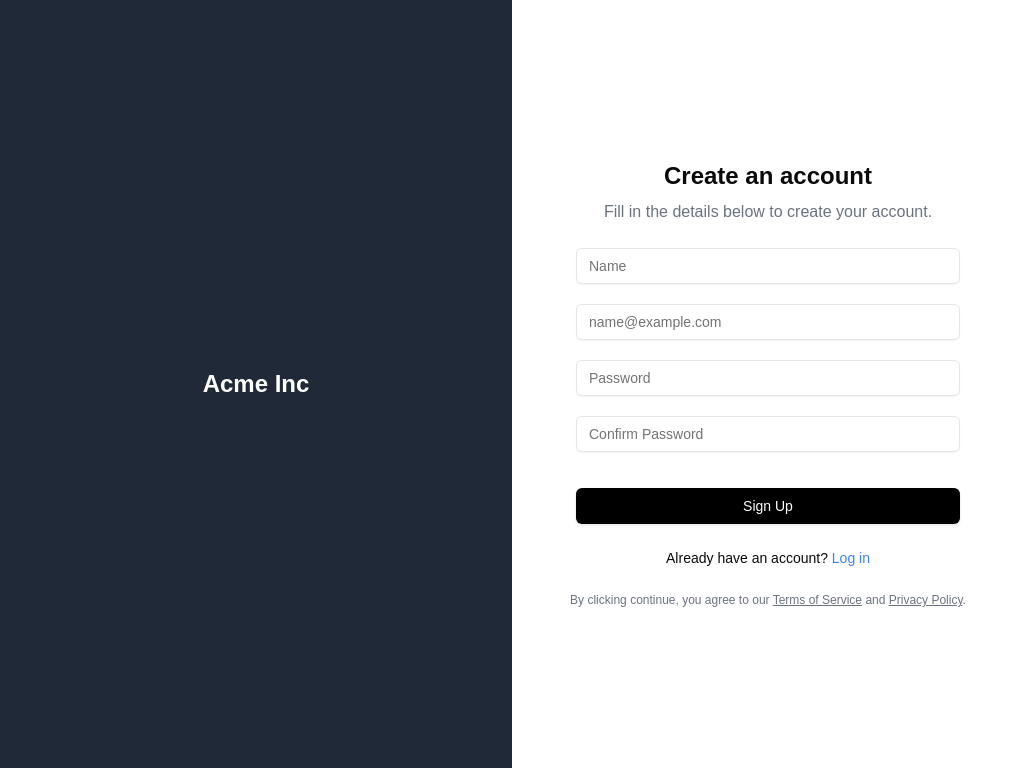
Test case: SignupPage Component › displays error when passwords do not match
In the field with placeholder "Name": x=768, y=266 [576,248,960,284], type "John Doe"
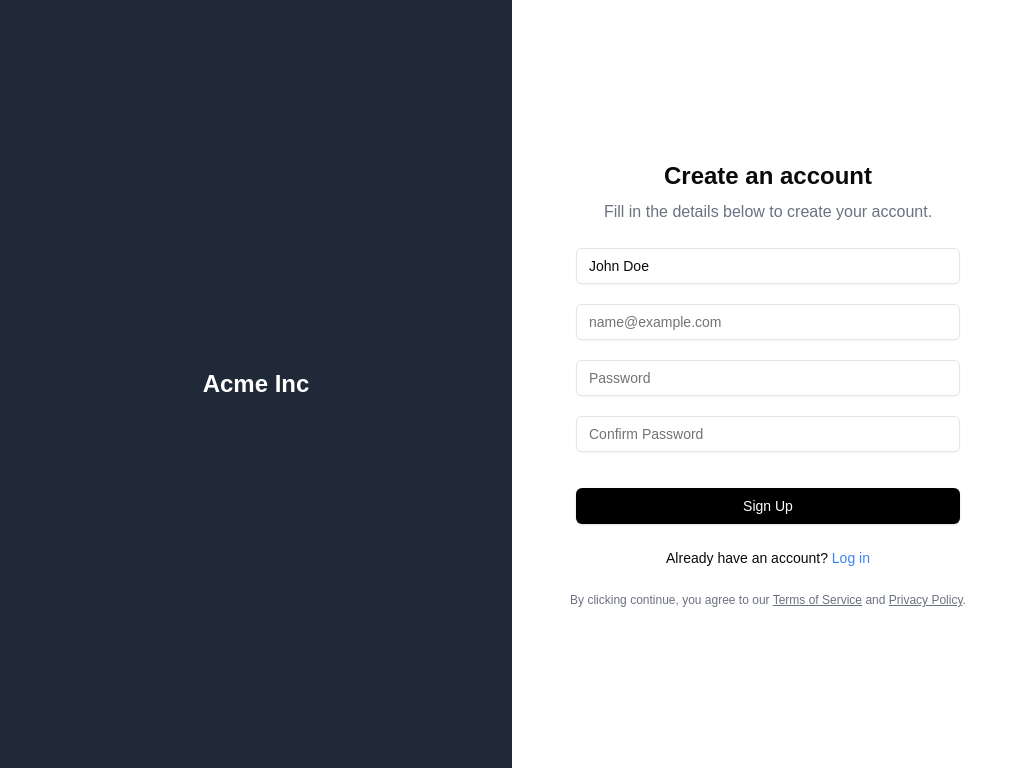
In the field with placeholder "name@example.com": x=768, y=322 [576,304,960,340], type "john@example.com"
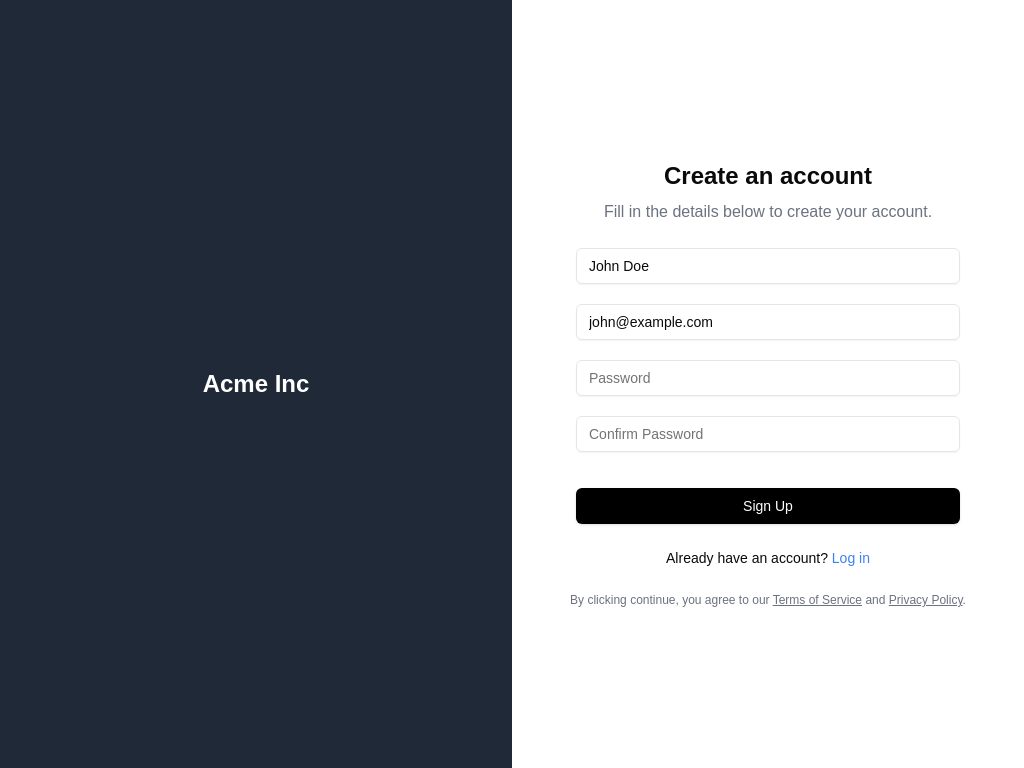
In the password field with placeholder "Password": x=768, y=378 [576,360,960,396], type "Password@123"
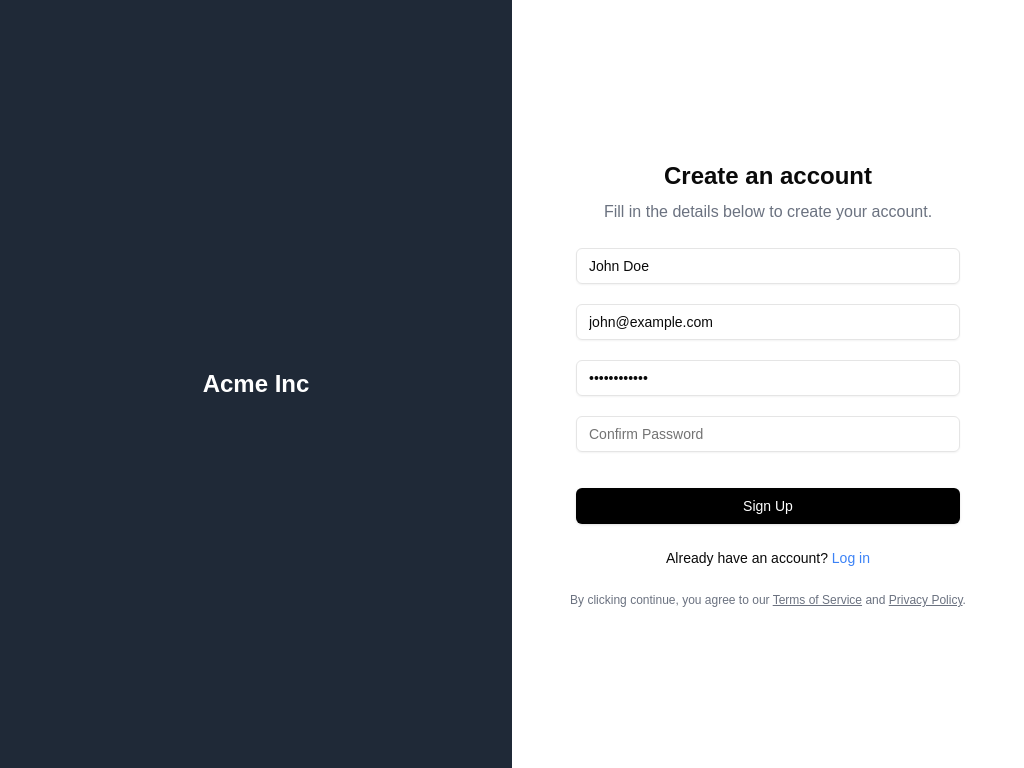
In the password field with placeholder "Confirm Password": x=768, y=434 [576,416,960,452], type "Password123"
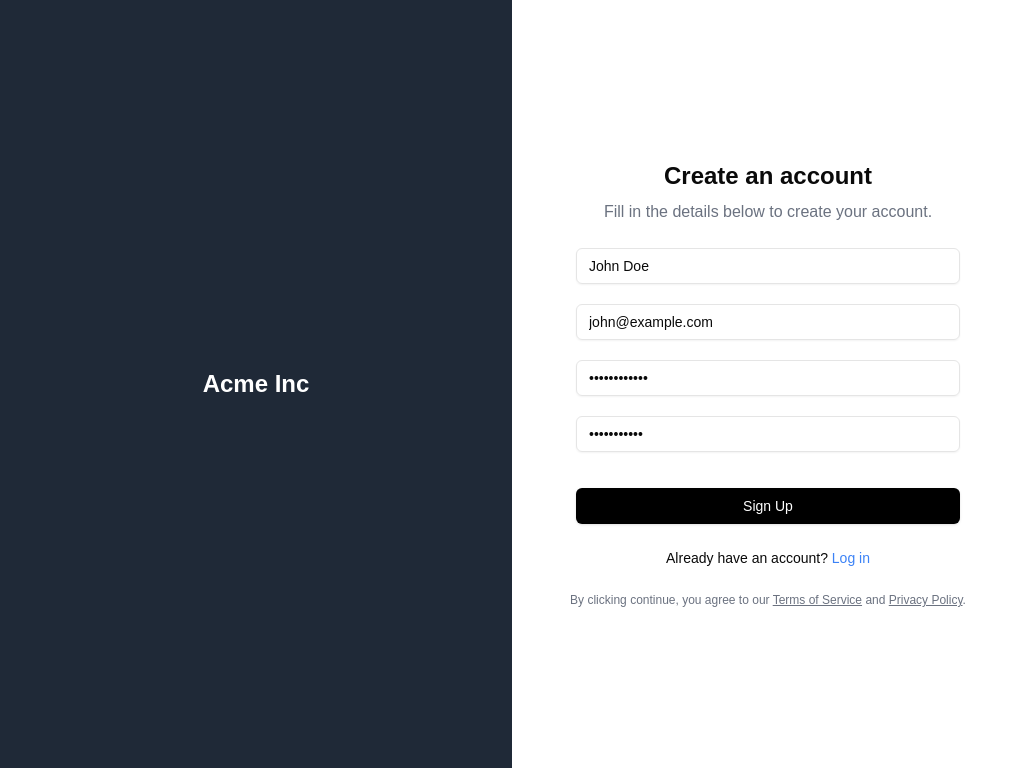
Click the button "Sign Up": x=768, y=506 [576,488,960,524]
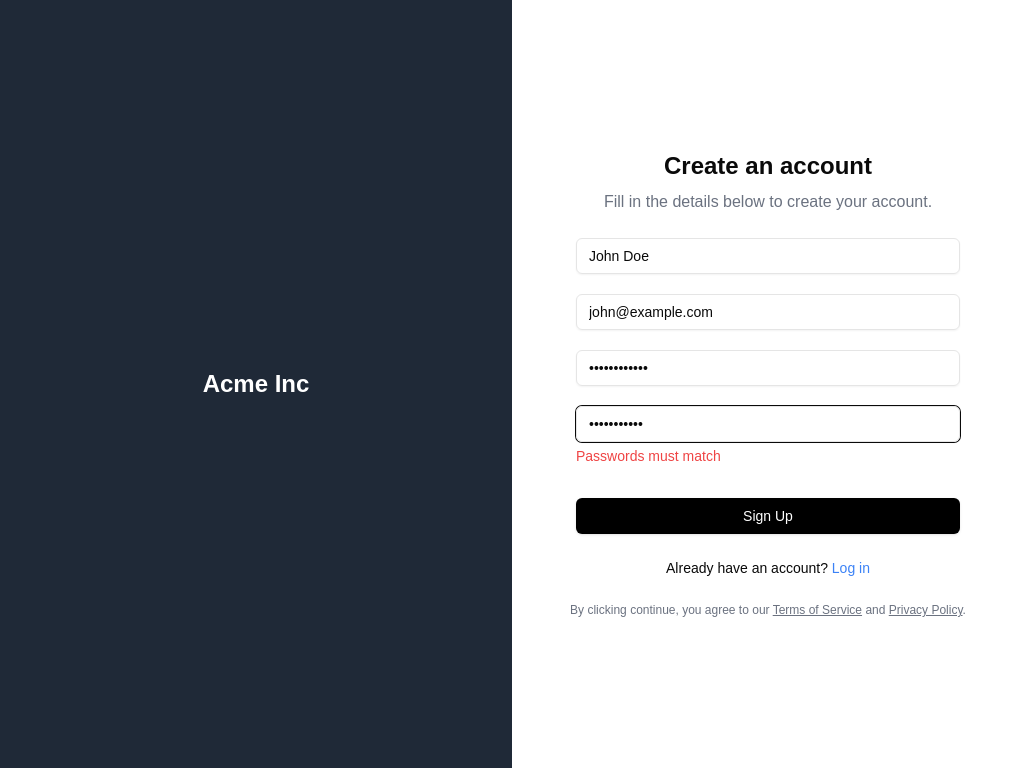
Expected: the text "Passwords must match" is shown, [576,448,721,464]
